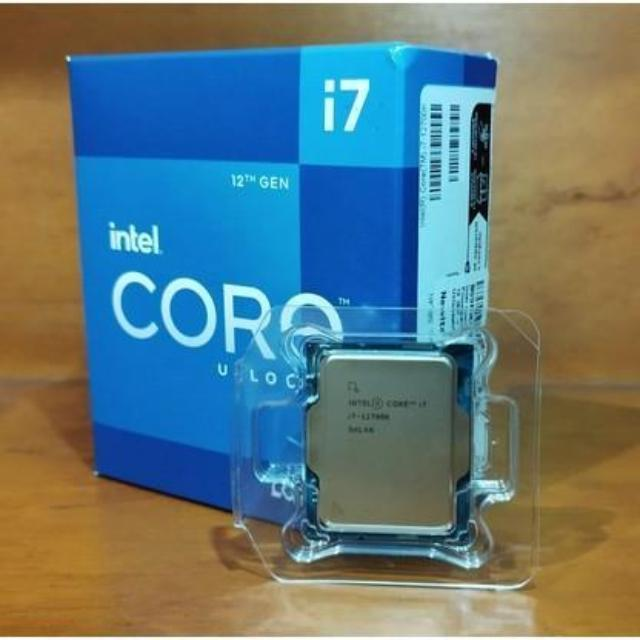CPU: (310, 344, 464, 538)
